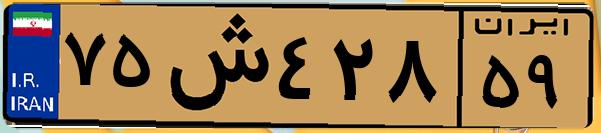2: (330, 28, 385, 110)
4: (270, 28, 330, 110)
5: (475, 38, 525, 113), (110, 28, 158, 98)
7: (57, 26, 110, 100)
8: (385, 28, 445, 110)
9: (525, 38, 570, 115)
ش: (158, 12, 270, 120)
